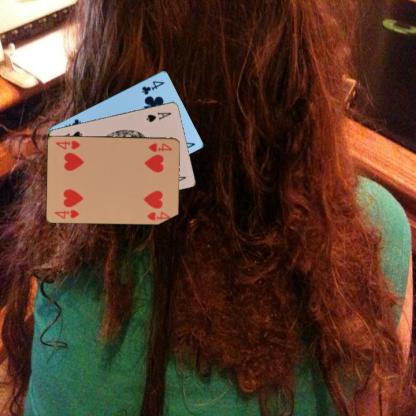4c: (139, 78, 166, 96)
4h: (146, 140, 174, 152), (53, 207, 80, 219)
As: (144, 109, 172, 123)
